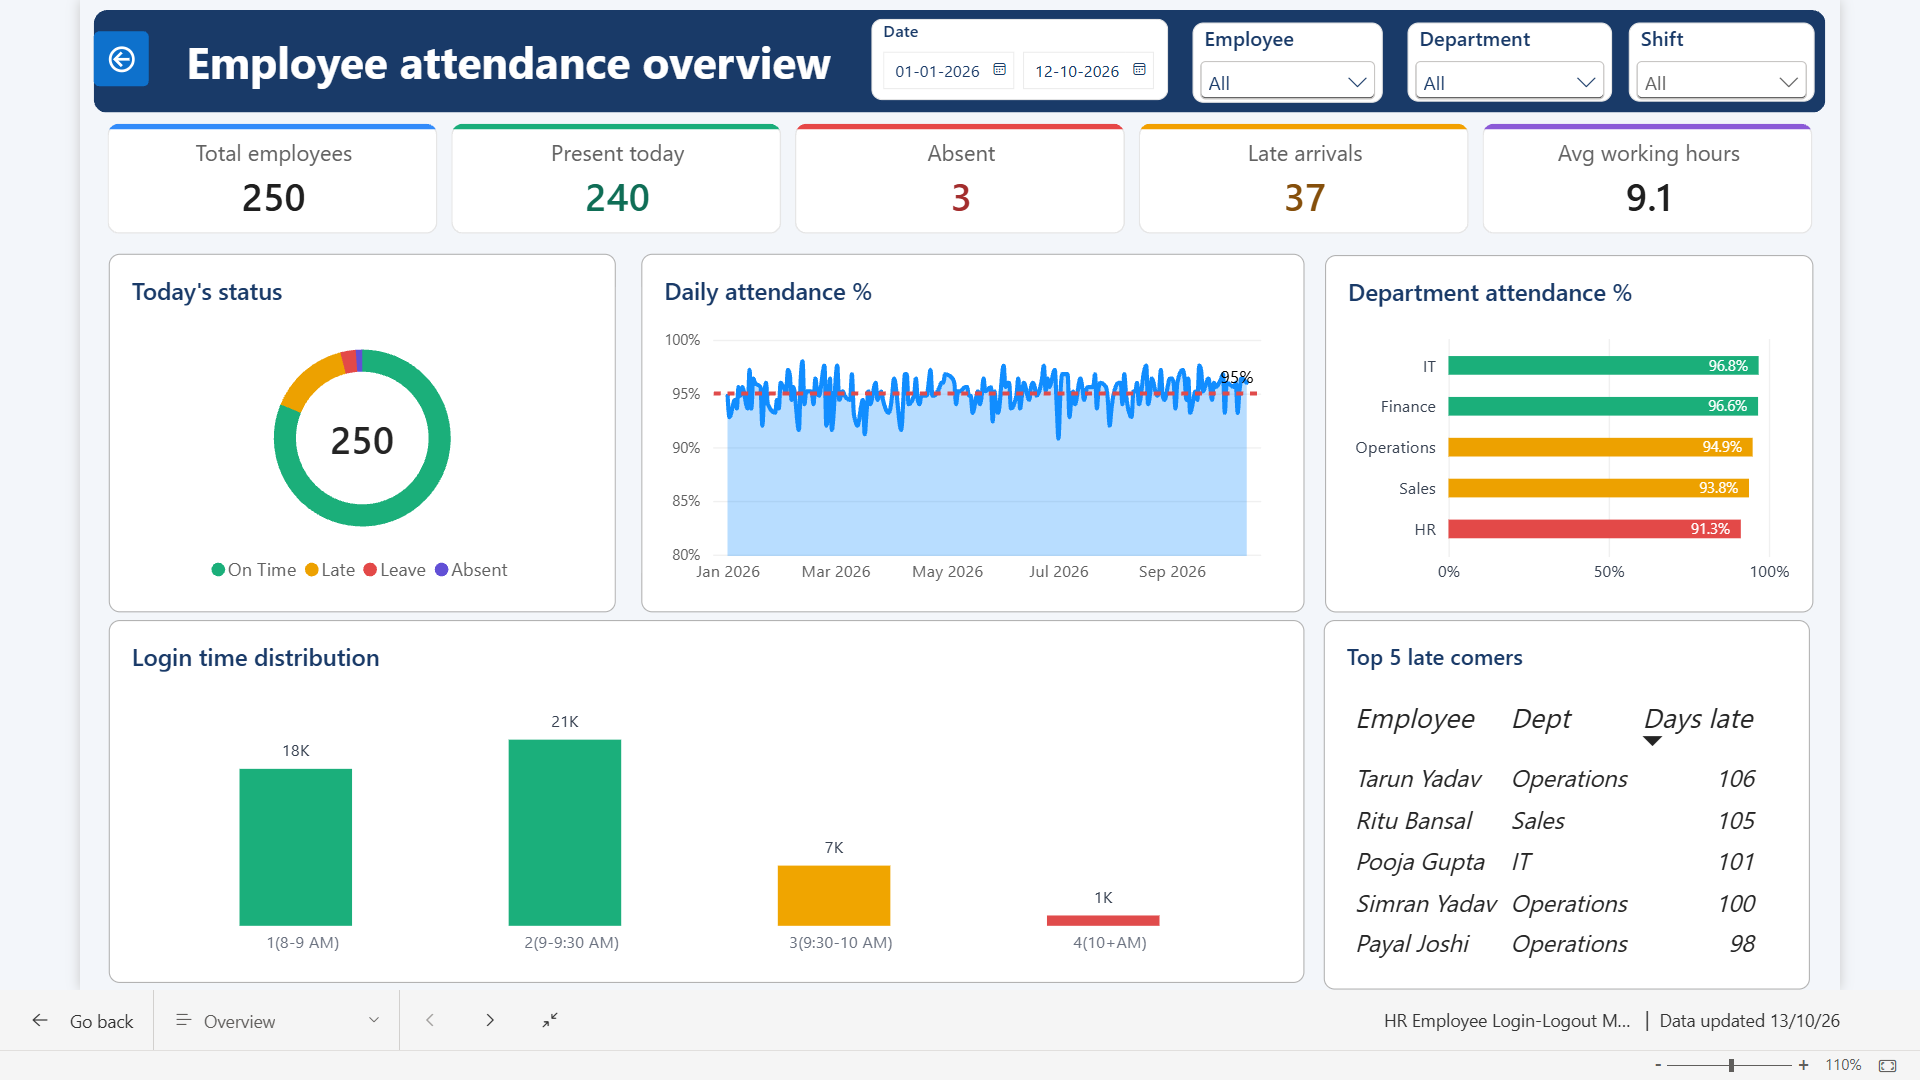

The page's visual inventory and layout, read from the dashboard file:
{"tool":"powerbi","page":{"name":"Overview","canvas":[1280,720],"ordinal":0},"visuals":[{"type":"shape","box":[9.7,7.2,1259.5,74.8],"z":0},{"type":"textbox","box":[77.5,22.5,472.9,45.8],"z":1000},{"type":"cardVisual","fields":{"Data":["Employees.Present Today"]},"box":[270,90,240,80],"z":2000},{"type":"cardVisual","fields":{"Data":["Attendance.Total Employee"]},"box":[20,90,240,80],"z":3000},{"type":"slicer","fields":{"Values":["Calendar.Date"]},"box":[575,13.8,216,59.1],"z":4000},{"type":"slicer","fields":{"Values":["Employees.Department"]},"box":[965,16.2,148.8,57.5],"z":5000},{"type":"slicer","fields":{"Values":["Employees.Shift"]},"box":[1126.2,16.2,135,57.5],"z":6000},{"type":"cardVisual","fields":{"Data":["Employees.Absent Today"]},"box":[520,90,240,80],"z":7000},{"type":"cardVisual","fields":{"Data":["Employees.Late Today"]},"box":[770,90,240,80],"z":8000},{"type":"cardVisual","fields":{"Data":["Attendance.Avg Hours"]},"box":[1020,90,240,80],"z":9000},{"type":"donutChart","title":"Today''s status","fields":{"Category":["Attendance.Day Status"],"Y":["Employees.Status Count Today"]},"box":[20.5,184.6,369.2,260.6],"z":10000},{"type":"lineChart","title":"Daily attendance %","fields":{"Category":["Calendar.Date"],"Y":["Employees.Attendance %"]},"box":[407.8,184.6,482.6,260.6],"z":11000},{"type":"clusteredColumnChart","title":"Login time distribution","fields":{"Category":["Attendance.LogIn Slot"],"Y":["Count(Attendance.RecordID)"]},"box":[20.5,451.2,869.8,264.2],"z":12000},{"type":"clusteredBarChart","title":"Department attendance %","fields":{"Category":["Employees.Department"],"Y":["Employees.Attendance %"]},"box":[905,185,355,260],"z":13000},{"type":"tableEx","title":"Top 5  late comers","fields":{"Values":["Employees.Name","Employees.Department","Attendance.Late Count"]},"box":[904.8,451.2,353.5,269],"z":14000},{"type":"actionButton","box":[9.7,22.9,40,40],"z":15000},{"type":"slicer","fields":{"Values":["Employees.Name"]},"box":[808.8,16.2,138.8,58.8],"z":16000}]}

Visuals, with their boxes on the page's 1280x720 design canvas (x1, y1, x2, y2). These are canvas units, not pixel positions in the 1920x1080 screenshot, which may show the page scaled, cropped or inside an application window:
shape: bbox(10, 7, 1269, 82)
textbox: bbox(78, 22, 550, 68)
cardVisual - Employees.Present Today: bbox(270, 90, 510, 170)
cardVisual - Attendance.Total Employee: bbox(20, 90, 260, 170)
slicer - Calendar.Date: bbox(575, 14, 791, 73)
slicer - Employees.Department: bbox(965, 16, 1114, 74)
slicer - Employees.Shift: bbox(1126, 16, 1261, 74)
cardVisual - Employees.Absent Today: bbox(520, 90, 760, 170)
cardVisual - Employees.Late Today: bbox(770, 90, 1010, 170)
cardVisual - Attendance.Avg Hours: bbox(1020, 90, 1260, 170)
"Today''s status" donutChart: bbox(20, 185, 390, 445)
"Daily attendance %" lineChart: bbox(408, 185, 890, 445)
"Login time distribution" clusteredColumnChart: bbox(20, 451, 890, 715)
"Department attendance %" clusteredBarChart: bbox(905, 185, 1260, 445)
"Top 5  late comers" tableEx: bbox(905, 451, 1258, 720)
actionButton: bbox(10, 23, 50, 63)
slicer - Employees.Name: bbox(809, 16, 948, 75)
